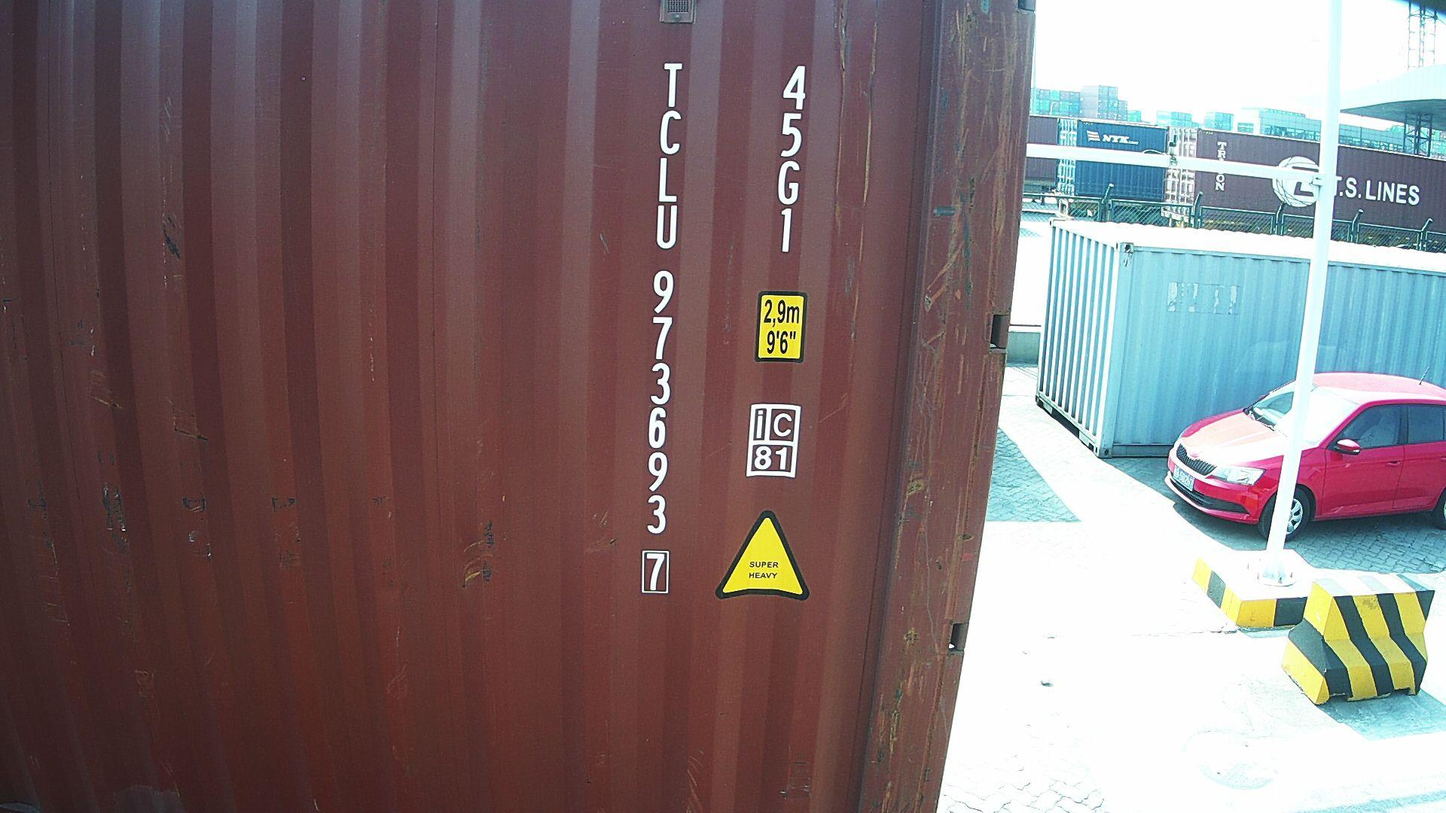container-numbers: (636, 54, 685, 598), (767, 61, 814, 260)
